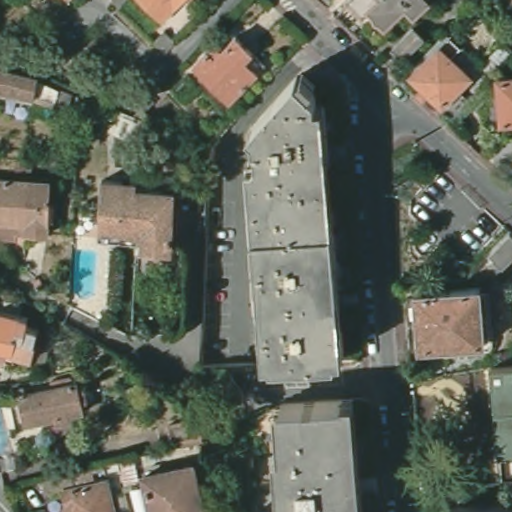pool: (71, 245, 102, 302)
